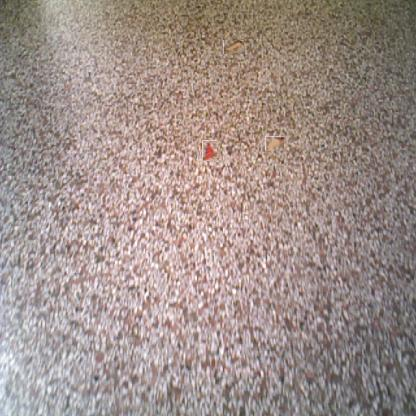dirty: (201, 142, 219, 159), (223, 40, 244, 54), (265, 136, 284, 151)
